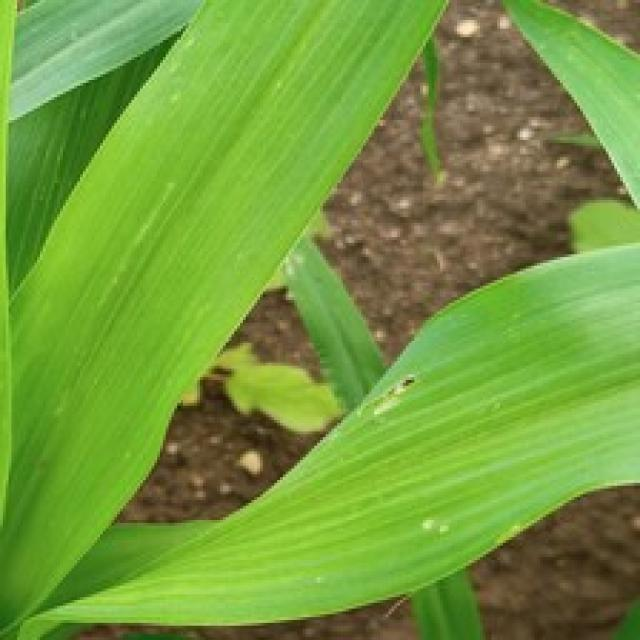Corn: (0, 0, 449, 637), (0, 240, 640, 629), (494, 0, 637, 231)
